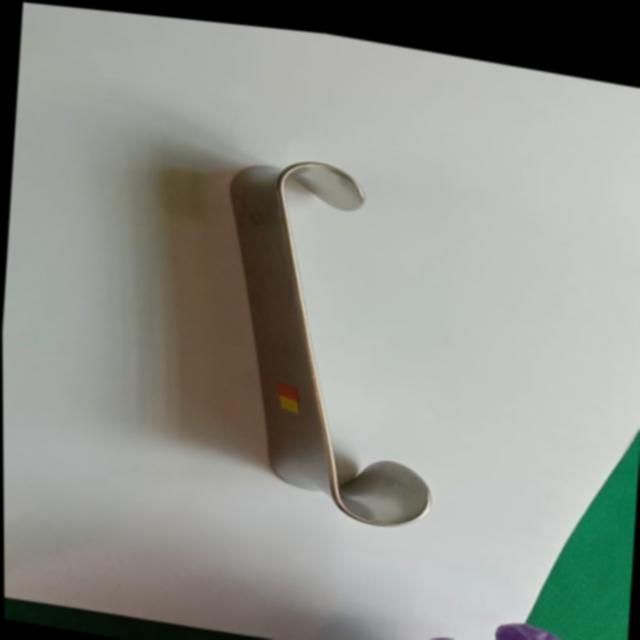CheekRetractor: (200, 138, 454, 529)
